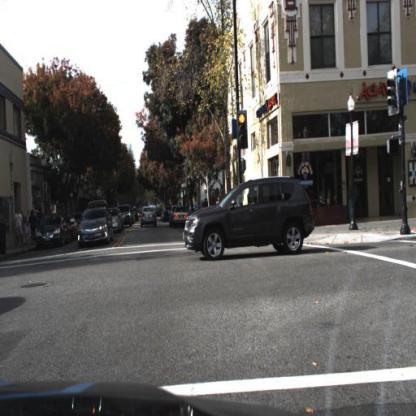car: (183, 175, 316, 269), (78, 208, 113, 247), (38, 215, 70, 249), (141, 204, 159, 229), (172, 203, 190, 228), (112, 208, 125, 235), (124, 204, 136, 231)
pedestrian: (406, 168, 416, 232), (30, 207, 38, 249), (16, 209, 23, 247), (22, 214, 28, 245)
trafficLight: (238, 112, 248, 152)
